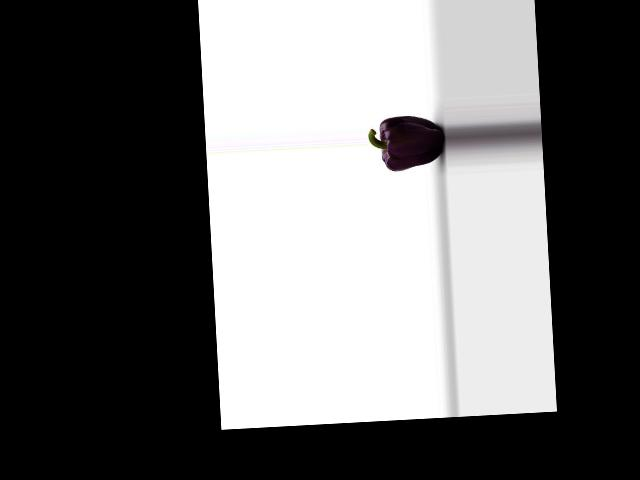bell_pepper: (368, 108, 444, 176)
